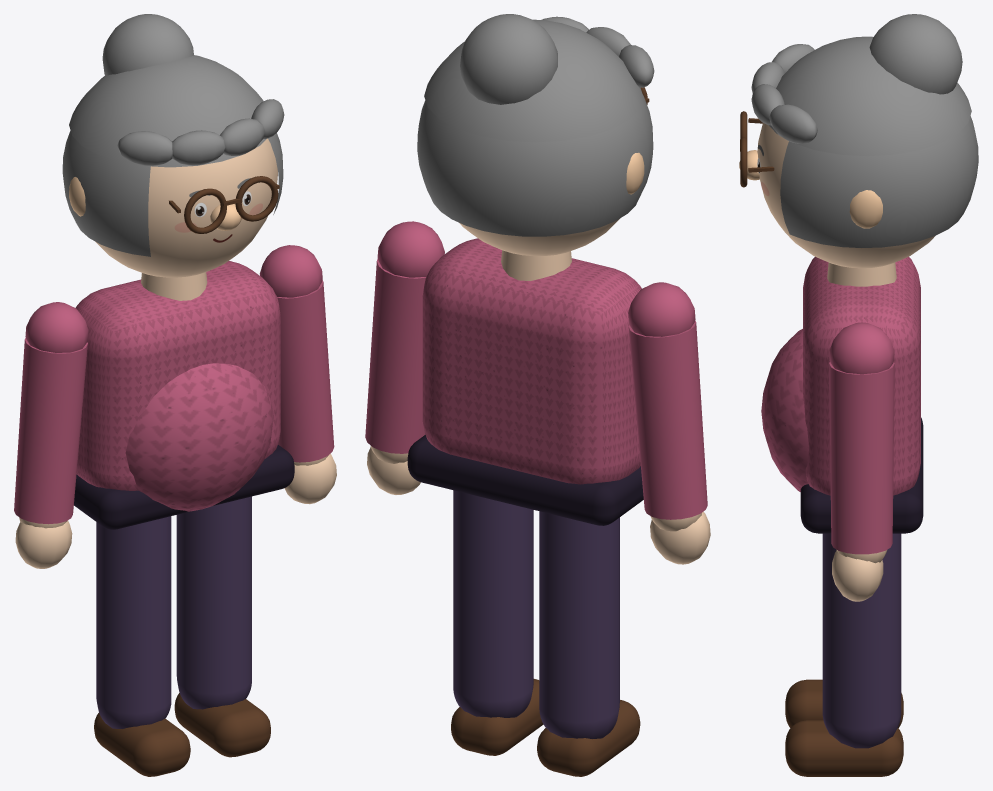
The model's file is kisi-teyze.glb.
3 renders of one model, left to right at view 1: azimuth 30°, elevation 25°; view 2: azimuth 150°, elevation 25°; view 3: azimuth 270°, elevation 25°, orthographic. The views are drawn at different scales.
Visible parts, largest first — view 1: govde, bas, bacakL, bacakR, kolL, kolR; view 2: govde, bas, bacakL, bacakR, kolL, kolR; view 3: bas, govde, bacakR, kolR, bacakL.
Part boxes in pixels (left/top/right/bottom): govde: left=74, top=261, right=294, bottom=529; bas: left=62, top=14, right=284, bottom=277; bacakL: left=94, top=516, right=190, bottom=776; bacakR: left=174, top=496, right=270, bottom=757; kolL: left=14, top=302, right=88, bottom=568; kolR: left=259, top=245, right=336, bottom=504; govde: left=407, top=238, right=643, bottom=525; bas: left=417, top=14, right=654, bottom=256; bacakL: left=537, top=511, right=640, bottom=776; bacakR: left=451, top=490, right=543, bottom=755; kolL: left=628, top=282, right=710, bottom=564; kolR: left=365, top=221, right=444, bottom=494; bas: left=739, top=14, right=978, bottom=268; govde: left=761, top=256, right=923, bottom=533; bacakR: left=785, top=533, right=903, bottom=776; kolR: left=829, top=322, right=894, bottom=601; bacakL: left=785, top=679, right=903, bottom=727.
Size of the model in its own units: 0.7937 by 1.7 by 0.5035.
10 materials, 2 textured.
